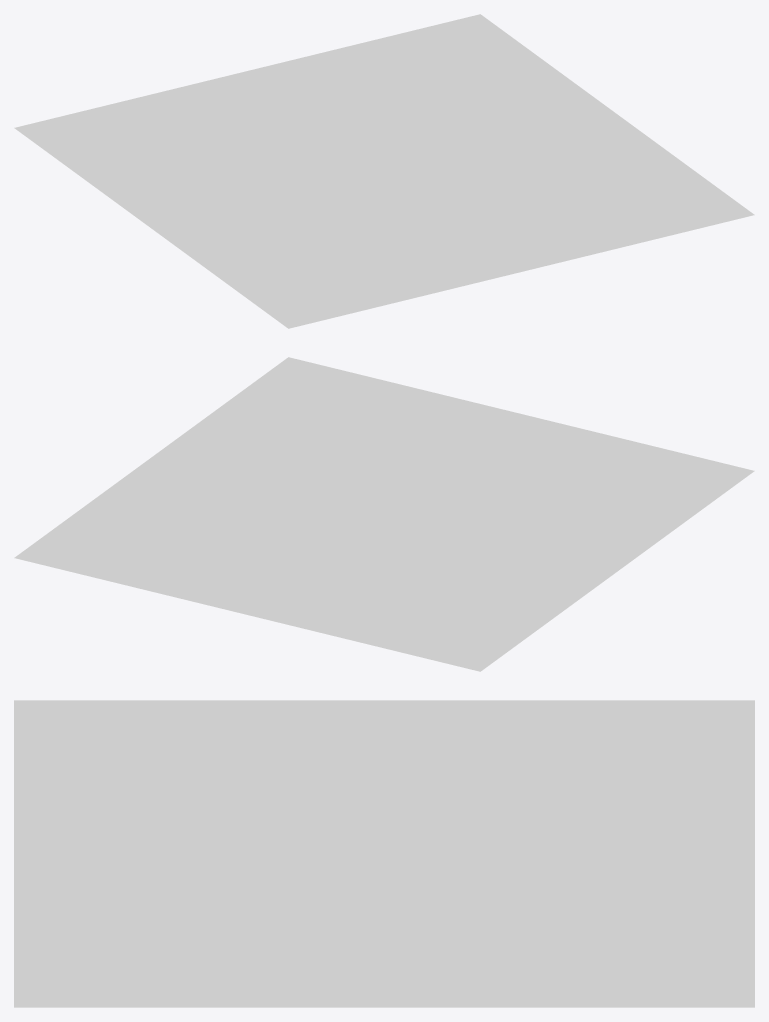
Rendered from sufit.obj.
The picture shows the model from 3 angles, top to bottom: view 1: azimuth 30°, elevation 25°; view 2: azimuth 150°, elevation 25°; view 3: azimuth 270°, elevation 25°; orthographic projection. The views are drawn at different scales.
Parts seen in each view (by area): view 1: Cube_Cube.001; view 2: Cube_Cube.001; view 3: Cube_Cube.001.
Boxes of the visible parts, <box> form: Cube_Cube.001: <box>14,14,754,328</box>; Cube_Cube.001: <box>14,357,754,671</box>; Cube_Cube.001: <box>14,700,754,1007</box>.
Size of the model in its own units: 22.38 by 0 by 22.81.
